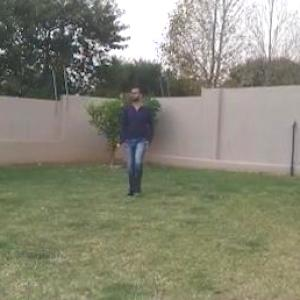follow: (120, 82, 150, 202)
